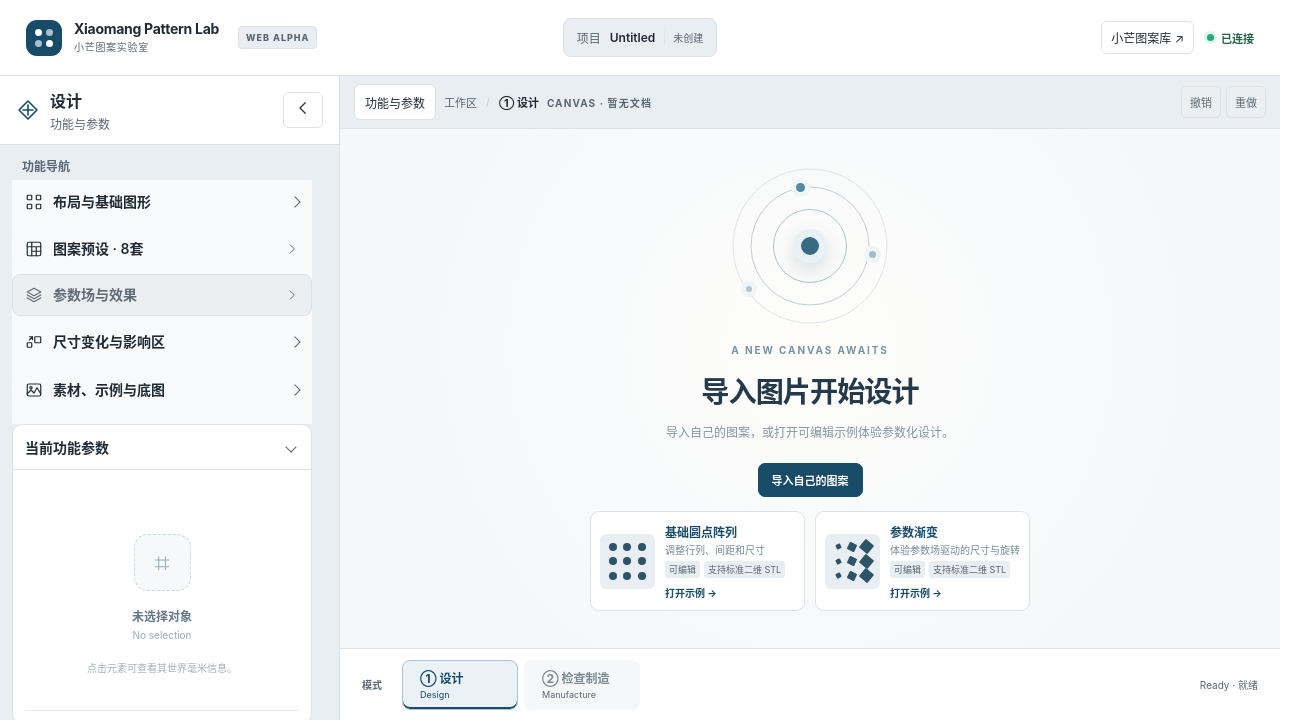
P1 built-in examples › manufactures the unchanged 参数渐变 example through the standard Web flow
Expected: the text "支持标准二维 STL" is shown 2 times, [704,561,785,578]; [929,561,1010,578]
Click the button with aria-label "打开示例：参数渐变": [922, 561] box [815,511,1030,611]
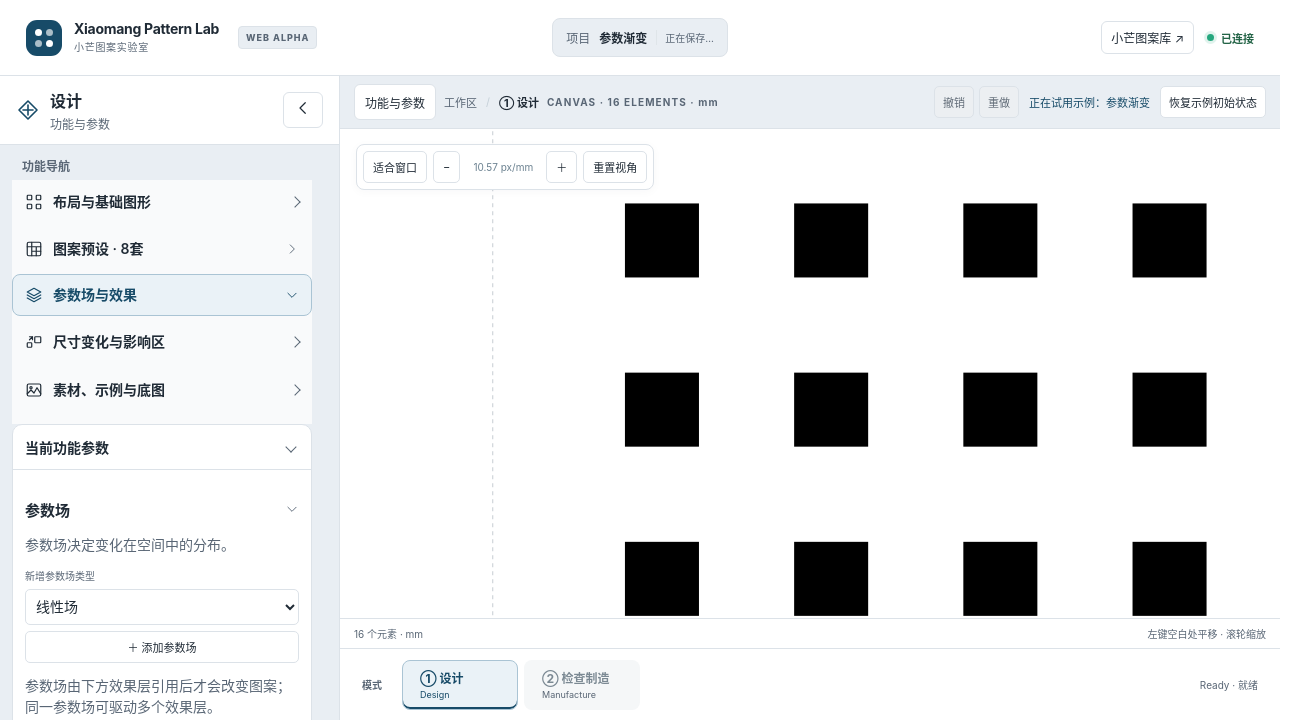
Now the picture named "最终二维几何，单位毫米" is shown, box [340,129,1280,648]
Click the button "② 检查制造 Manufacture": [582, 684] box [524,660,640,710]
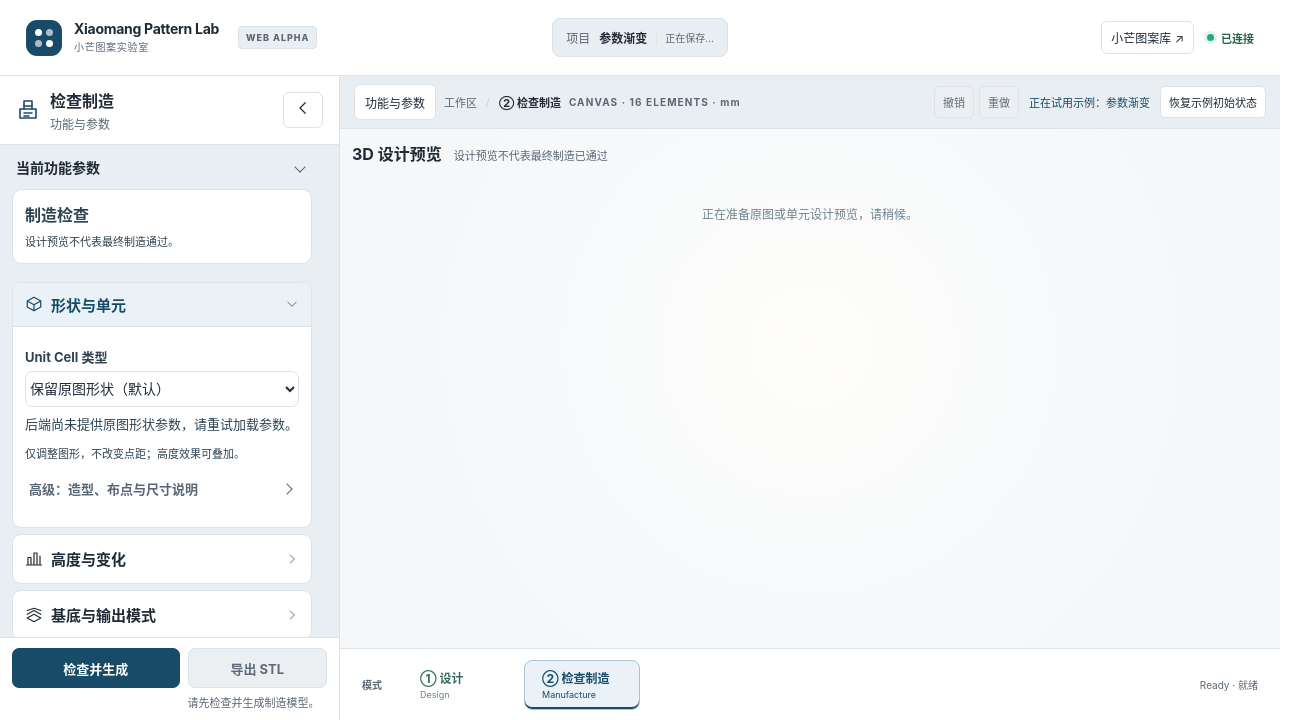
Click the button "检查并生成": [96, 668] box [12,648,180,688]
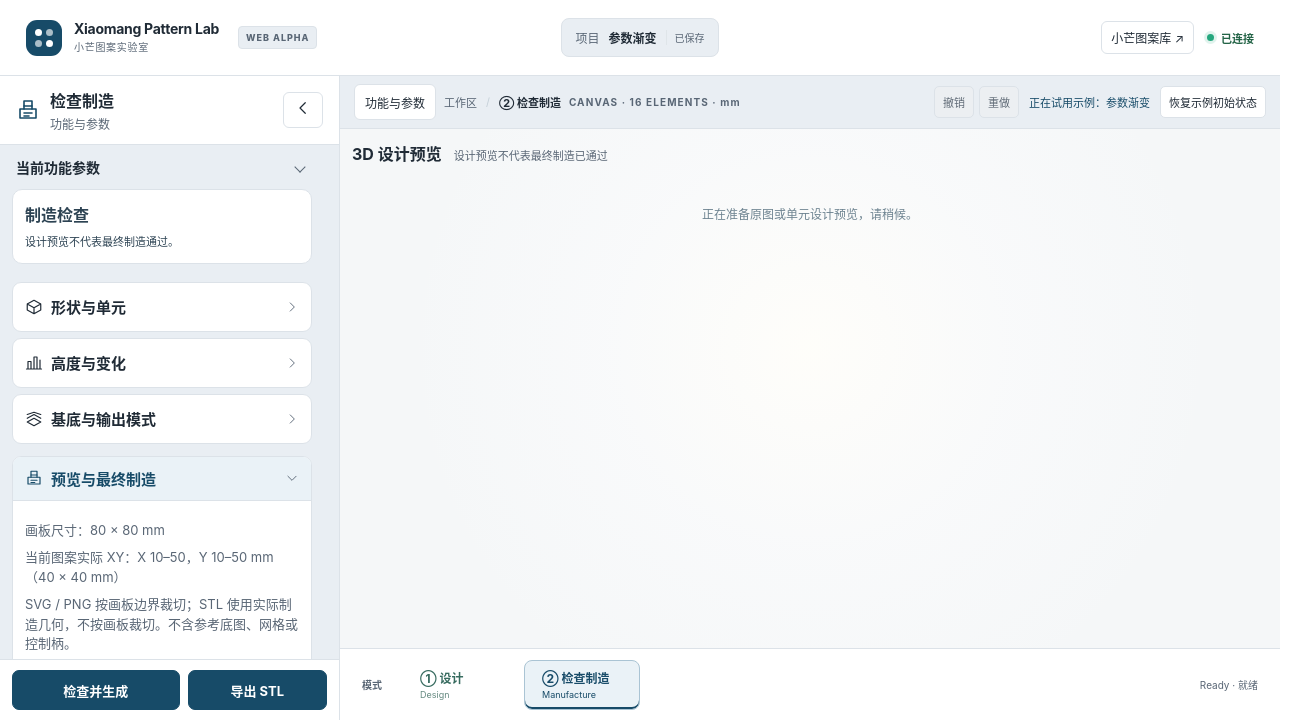
Now the button "导出 STL" is enabled, box [188,670,327,710]
